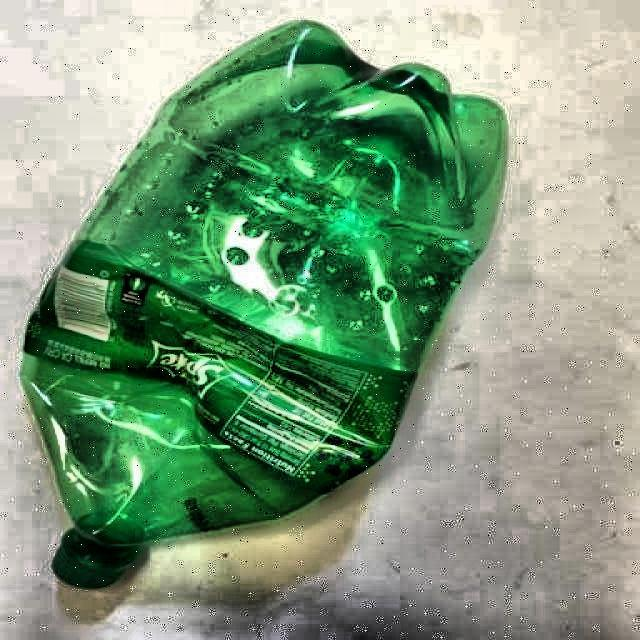plastic: (21, 21, 505, 588)
